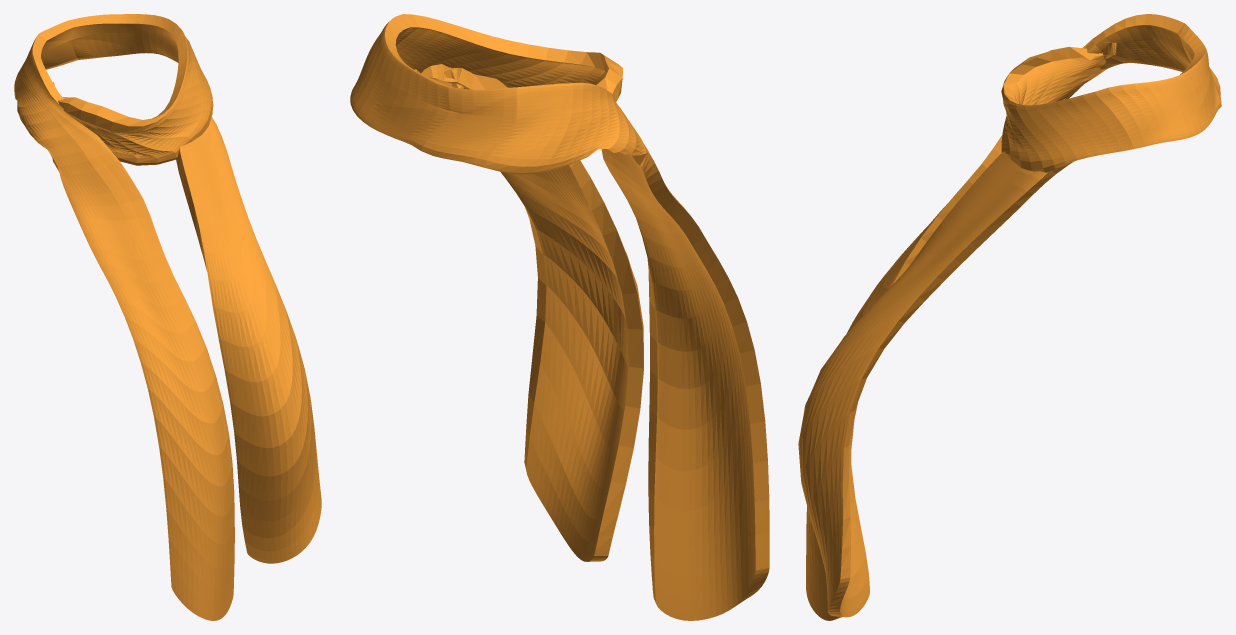
Rendered from longscarf.obj.
3 views of the same model, side by side, from view 1: azimuth 30°, elevation 25°; view 2: azimuth 150°, elevation 25°; view 3: azimuth 270°, elevation 25° (orthographic). The views are drawn at different scales.
Parts seen in each view (by area): view 1: longscartf1; view 2: longscartf1; view 3: longscartf1.
Part boxes in pixels (x1=…): longscartf1: x1=14, y1=14, x2=321, y2=620; longscartf1: x1=350, y1=14, x2=769, y2=620; longscartf1: x1=798, y1=14, x2=1221, y2=620.
Size of the model in its own units: 0.0711 by 0.177 by 0.1171.
